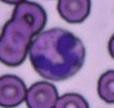N: (30, 28, 86, 80)
